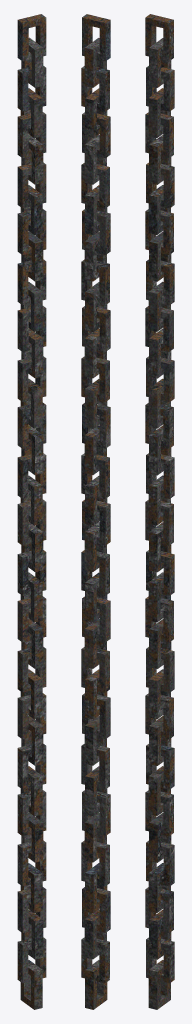
Rendered from Chain.fbx.
3 views of the same model, side by side, from view 1: azimuth 30°, elevation 25°; view 2: azimuth 150°, elevation 25°; view 3: azimuth 330°, elevation 25° (orthographic).
Visible parts, largest first — view 1: Chain:Mesh; view 2: Chain:Mesh; view 3: Chain:Mesh.
Boxes of the visible parts, <box> form: Chain:Mesh: <box>17,14,46,1009</box>; Chain:Mesh: <box>81,14,110,1009</box>; Chain:Mesh: <box>145,14,174,1009</box>.
Bounding box in the file's own units: 0.0559 × 2.19 × 0.0559.
